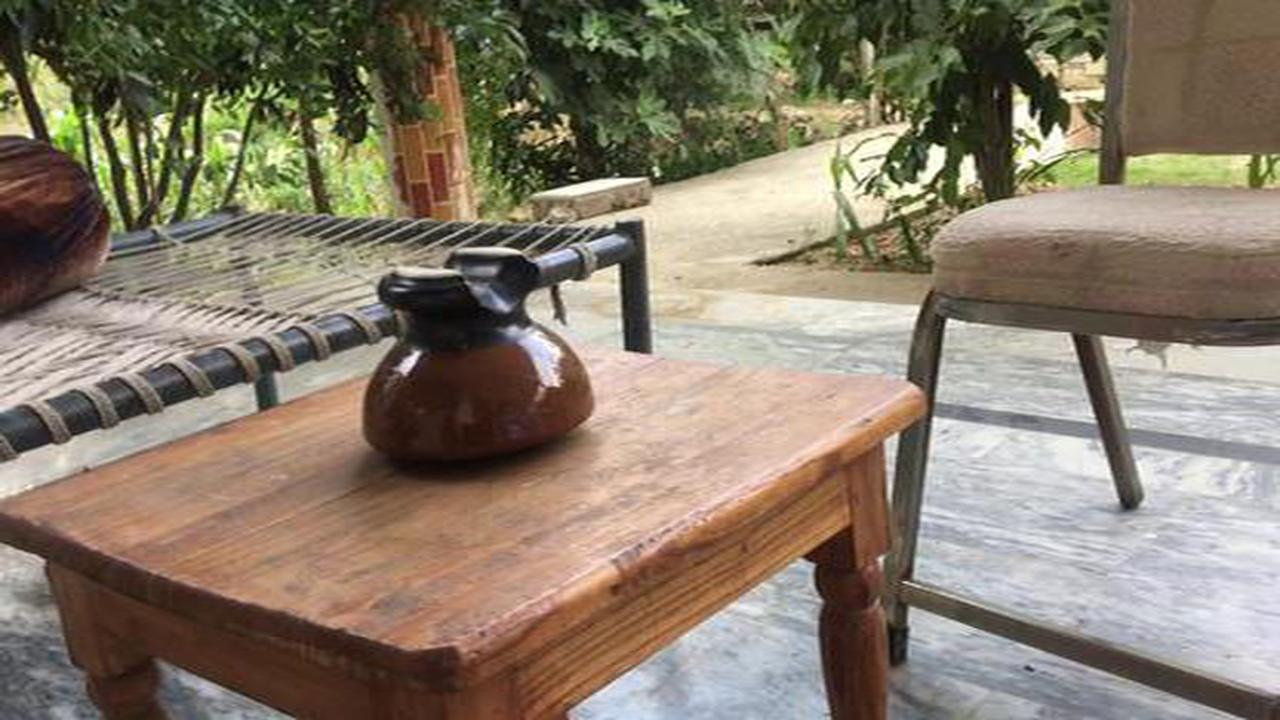insulator_pin: (339, 238, 625, 482)
